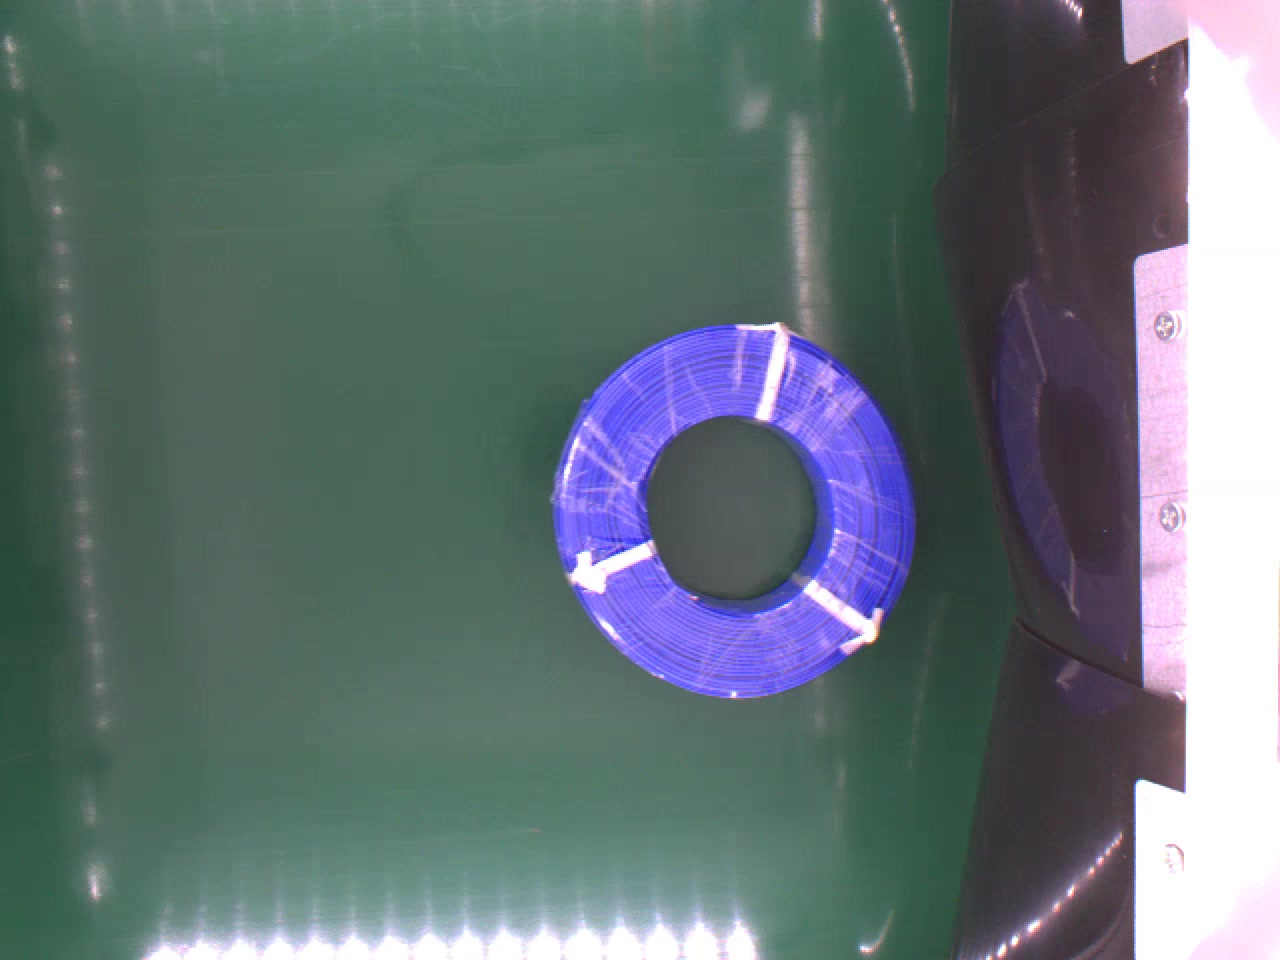blue: (543, 320, 921, 709)
